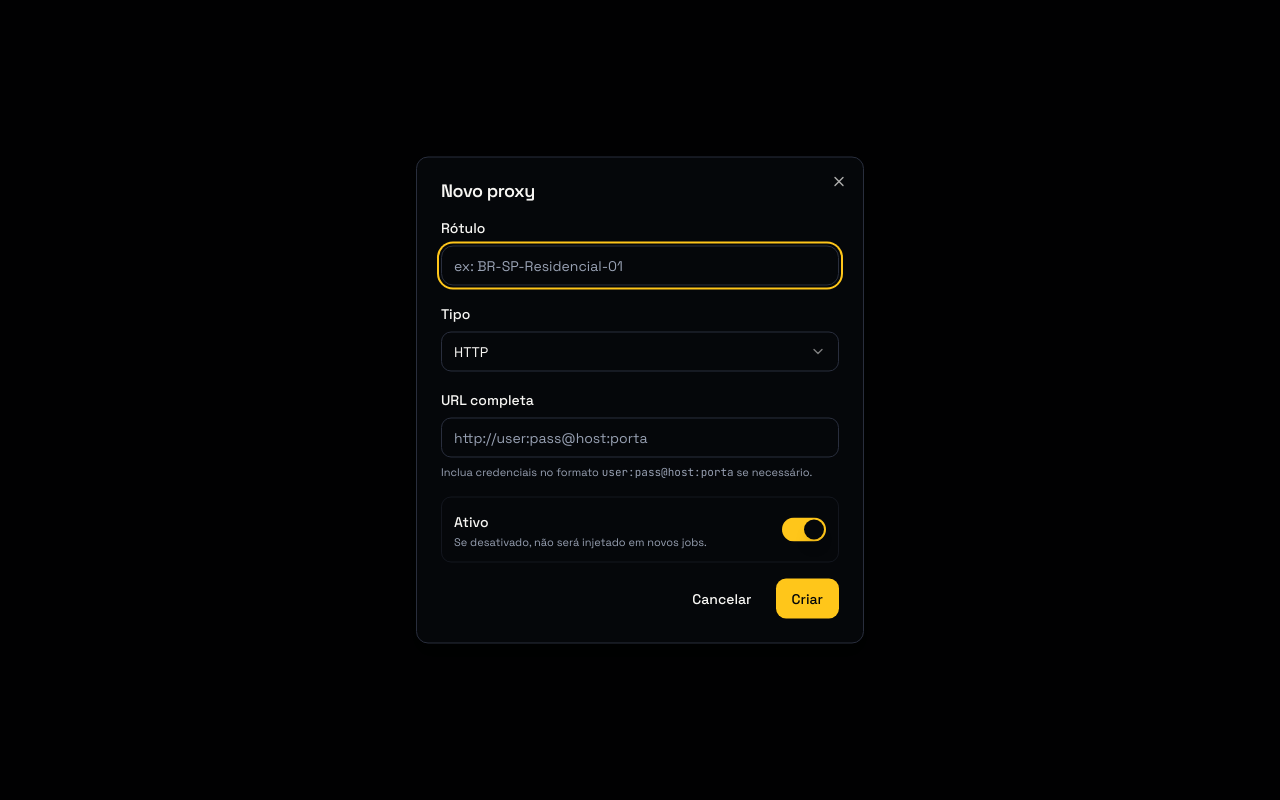
ProxyFormDialog › mostra a mensagem de validacao no submit invalido em vez de lancar
This screenshot has width=1280, height=800.
What coordinates should you click on to do the following:
click the button "Criar"
I would click on:
 (807, 598)
Its box is [776, 578, 839, 618].
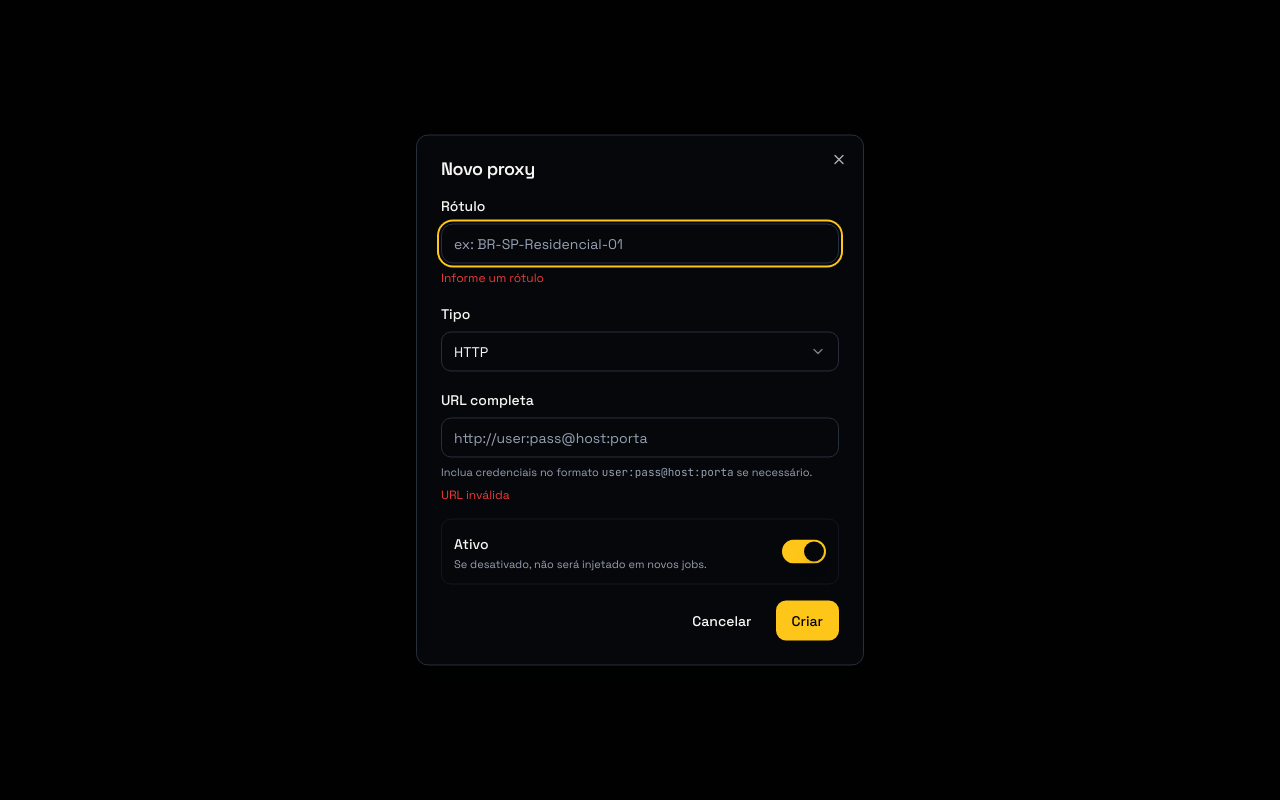
Result: the text "Informe um rótulo" is shown at [441, 270, 544, 286]
Result: the text "URL inválida" is shown at [441, 486, 510, 502]
